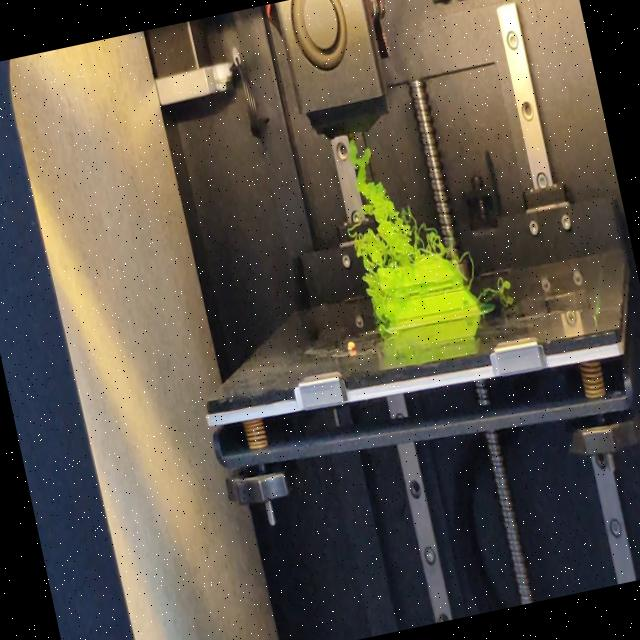spaghetti: (332, 122, 452, 280), (363, 276, 388, 336), (475, 274, 512, 301), (458, 250, 479, 288)
